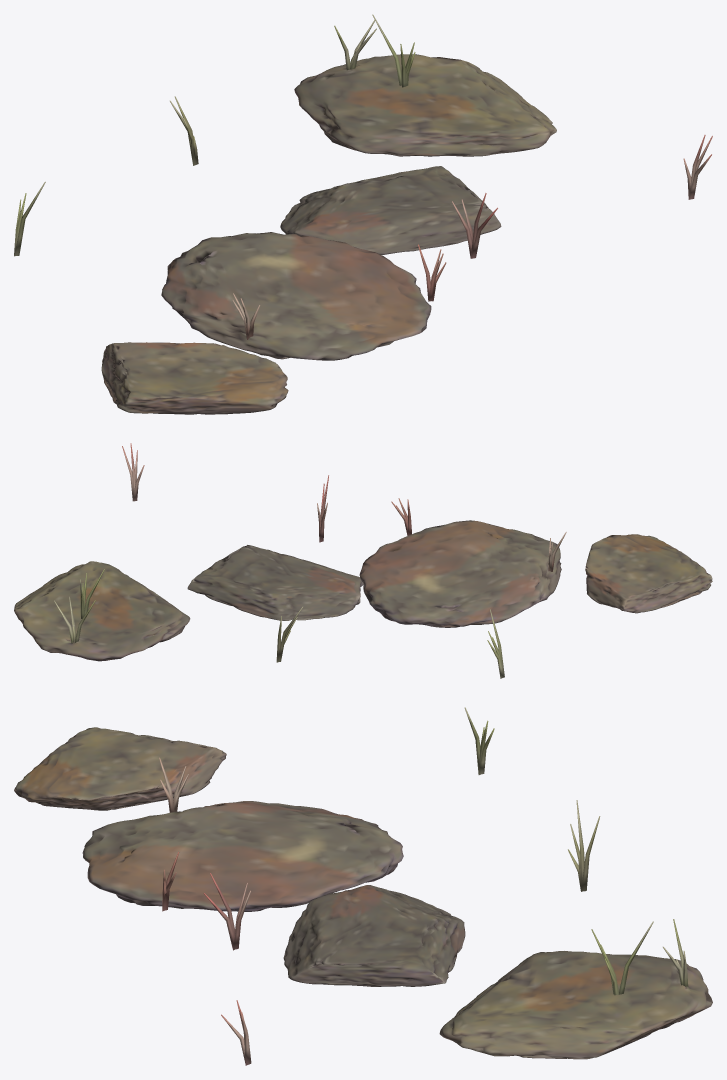
File: tas_yassi.glb
3 renders of one model, top to bottom at view 1: azimuth 30°, elevation 25°; view 2: azimuth 150°, elevation 25°; view 3: azimuth 270°, elevation 25°, orthographic. The views are drawn at different scales.
Parts seen in each view (by area): view 1: tas_yassi_LOD0; view 2: tas_yassi_LOD0; view 3: tas_yassi_LOD0.
Boxes of the visible parts, left/top/right/bottom form: tas_yassi_LOD0: left=14, top=14, right=712, bottom=414; tas_yassi_LOD0: left=14, top=443, right=712, bottom=678; tas_yassi_LOD0: left=14, top=707, right=712, bottom=1065.
Size of what is drawn, in the model's own units: 3.75 by 0.4411 by 3.26.
